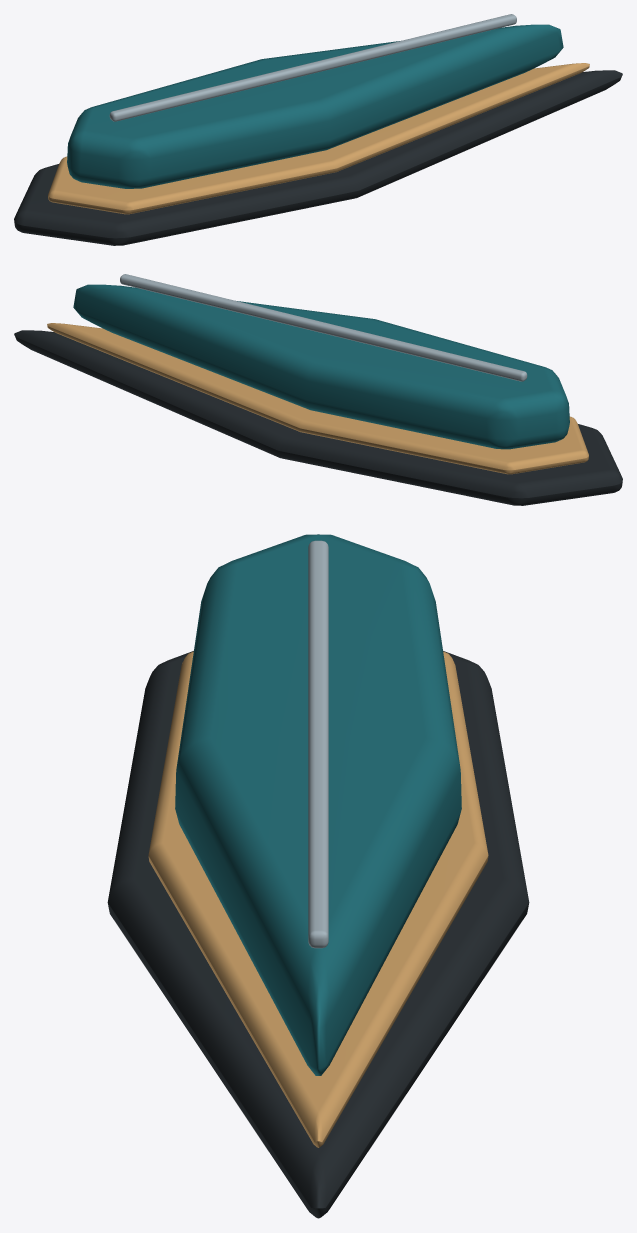
Rendered from debris-canopy.glb.
3 renders of one model, top to bottom at view 1: azimuth 30°, elevation 25°; view 2: azimuth 150°, elevation 25°; view 3: azimuth 270°, elevation 25°, orthographic. The views are drawn at different scales.
Parts seen in each view (by area): view 1: debris-canopy; view 2: debris-canopy; view 3: debris-canopy.
Part boxes in pixels (left/top/right/bottom): debris-canopy: left=14, top=14, right=622, bottom=245; debris-canopy: left=14, top=274, right=622, bottom=505; debris-canopy: left=107, top=534, right=529, bottom=1218.
Bounding box in the file's own units: 1 × 0.154 × 0.3011.
